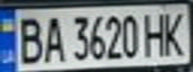0: (121, 10, 142, 58)
2: (103, 11, 124, 61)
3: (66, 11, 90, 62)
6: (87, 11, 109, 61)
A: (39, 12, 66, 64)
B: (12, 12, 45, 65)
H: (142, 9, 169, 57)
K: (160, 7, 190, 56)
